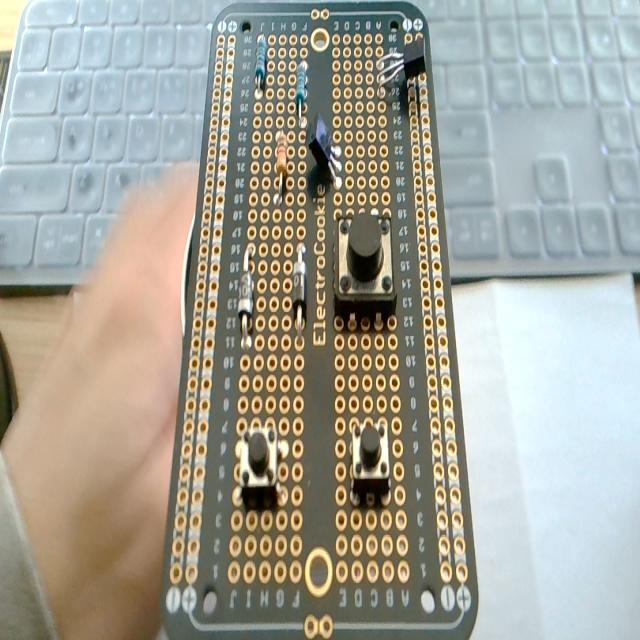diode: (238, 245, 255, 348), (291, 242, 308, 336)
resistor: (275, 133, 288, 201), (255, 35, 267, 89), (295, 62, 306, 119)
switch: (332, 209, 397, 328), (238, 422, 283, 504), (350, 420, 389, 501)
transistor: (307, 111, 344, 192), (378, 34, 424, 99)
